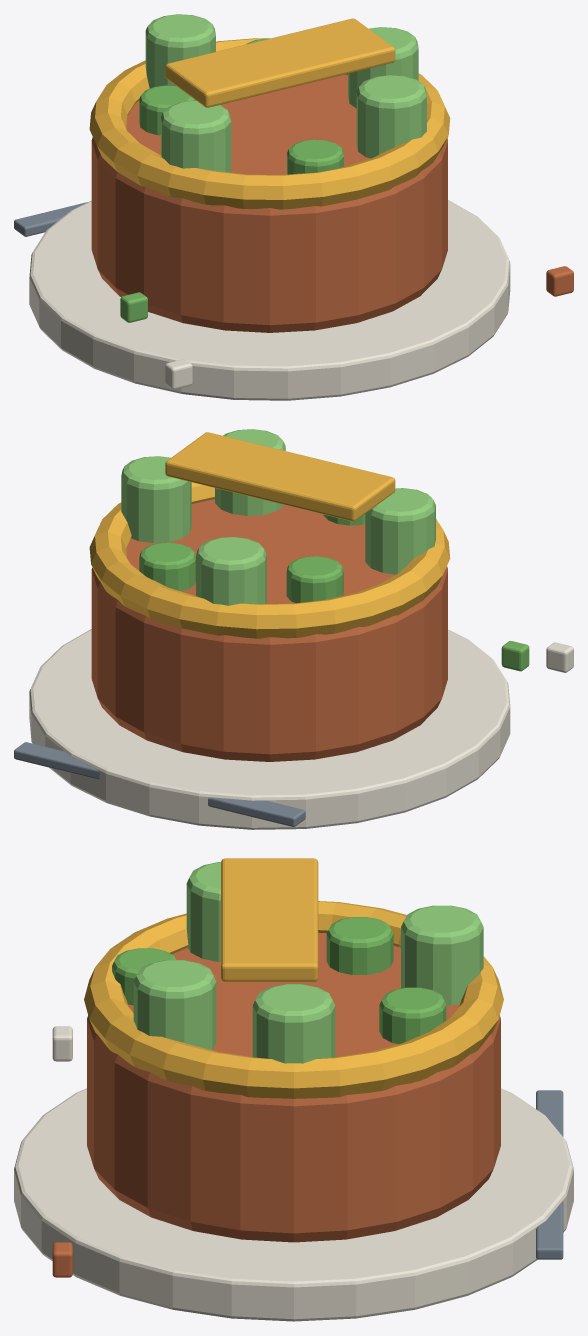
File: food_fries_future_a_v01.glb
3 renders of one model, top to bottom at view 1: azimuth 30°, elevation 25°; view 2: azimuth 150°, elevation 25°; view 3: azimuth 270°, elevation 25°, orthographic. The views are drawn at different scales.
Parts seen in each view (by area): view 1: component__functional_secondary_components__main_portion, component__recognizable_primary_structure__serving_base, component__functional_secondary_components__portion_rim, component__appropriate_materials__sauce_finish, component__appropriate_materials__ingredient, component__appropriate_materials__ingredient.005, component__appropriate_materials__ingredient.003, component__appropriate_materials__ingredient.001, component__appropriate_materials__ingredient.006, component__appropriate_materials__ingredient.004, component__functional_secondary_components__utensil, component__recognizable_primary_structure__qa_component_00 (+2 smaller); view 2: component__functional_secondary_components__main_portion, component__recognizable_primary_structure__serving_base, component__functional_secondary_components__portion_rim, component__appropriate_materials__sauce_finish, component__appropriate_materials__ingredient.001, component__appropriate_materials__ingredient.005, component__appropriate_materials__ingredient.003, component__functional_secondary_components__utensil, component__appropriate_materials__ingredient.004, component__appropriate_materials__ingredient.002, component__appropriate_materials__ingredient, component__appropriate_materials__qa_component_02 (+1 smaller); view 3: component__functional_secondary_components__main_portion, component__recognizable_primary_structure__serving_base, component__functional_secondary_components__portion_rim, component__appropriate_materials__sauce_finish, component__appropriate_materials__ingredient.003, component__appropriate_materials__ingredient, component__appropriate_materials__ingredient.001, component__appropriate_materials__ingredient.004, component__appropriate_materials__ingredient.005, component__appropriate_materials__ingredient.002, component__functional_secondary_components__utensil, component__appropriate_materials__ingredient.006 (+2 smaller).
Boxes of the visible parts, x1,y1,x2,y2 form: component__functional_secondary_components__main_portion: [91, 74, 447, 332]; component__recognizable_primary_structure__serving_base: [29, 200, 510, 400]; component__functional_secondary_components__portion_rim: [89, 38, 450, 209]; component__appropriate_materials__sauce_finish: [165, 18, 395, 107]; component__appropriate_materials__ingredient: [356, 75, 426, 158]; component__appropriate_materials__ingredient.005: [161, 100, 231, 172]; component__appropriate_materials__ingredient.003: [145, 14, 215, 88]; component__appropriate_materials__ingredient.001: [348, 27, 418, 108]; component__appropriate_materials__ingredient.006: [287, 139, 343, 174]; component__appropriate_materials__ingredient.004: [139, 85, 195, 135]; component__functional_secondary_components__utensil: [14, 202, 87, 236]; component__recognizable_primary_structure__qa_component_00: [165, 359, 192, 389]; component__functional_secondary_components__main_portion: [91, 499, 447, 761]; component__recognizable_primary_structure__serving_base: [29, 629, 510, 829]; component__functional_secondary_components__portion_rim: [89, 482, 450, 638]; component__appropriate_materials__sauce_finish: [165, 432, 395, 521]; component__appropriate_materials__ingredient.001: [121, 456, 191, 542]; component__appropriate_materials__ingredient.005: [365, 488, 435, 574]; component__appropriate_materials__ingredient.003: [196, 537, 266, 605]; component__functional_secondary_components__utensil: [14, 742, 305, 826]; component__appropriate_materials__ingredient.004: [286, 556, 343, 603]; component__appropriate_materials__ingredient.002: [139, 542, 196, 591]; component__appropriate_materials__ingredient: [215, 429, 285, 515]; component__appropriate_materials__qa_component_02: [501, 641, 529, 671]; component__functional_secondary_components__main_portion: [87, 932, 500, 1242]; component__recognizable_primary_structure__serving_base: [14, 1088, 573, 1321]; component__functional_secondary_components__portion_rim: [84, 901, 503, 1098]; component__appropriate_materials__sauce_finish: [221, 858, 318, 981]; component__appropriate_materials__ingredient.003: [401, 905, 483, 1005]; component__appropriate_materials__ingredient: [133, 960, 216, 1050]; component__appropriate_materials__ingredient.001: [252, 984, 335, 1063]; component__appropriate_materials__ingredient.004: [326, 917, 393, 974]; component__appropriate_materials__ingredient.005: [186, 862, 220, 961]; component__appropriate_materials__ingredient.002: [379, 987, 446, 1044]; component__functional_secondary_components__utensil: [536, 1090, 563, 1259]; component__appropriate_materials__ingredient.006: [112, 948, 175, 1005].
Size of the model in its own units: 0.69 by 0.3994 by 0.69.
